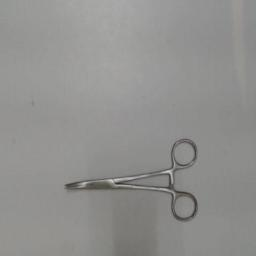Crile Artery Forceps: (58, 133, 202, 229)
